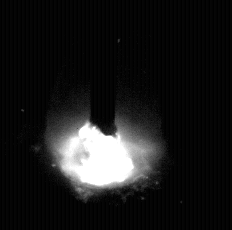arame: (91, 0, 117, 139)
poca: (44, 0, 166, 230)
